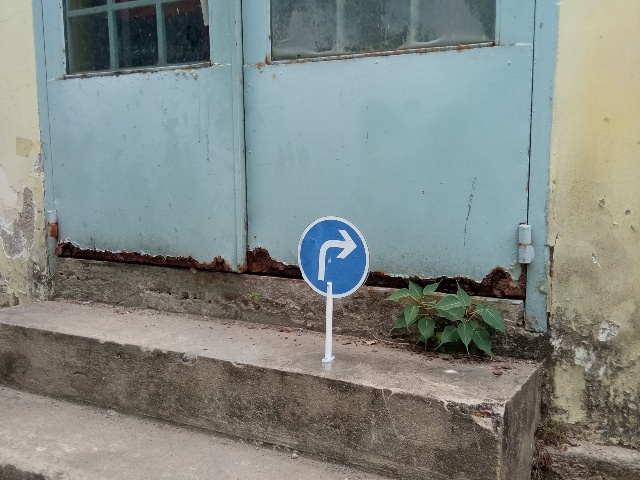Right_Sign: (299, 217, 370, 299)
